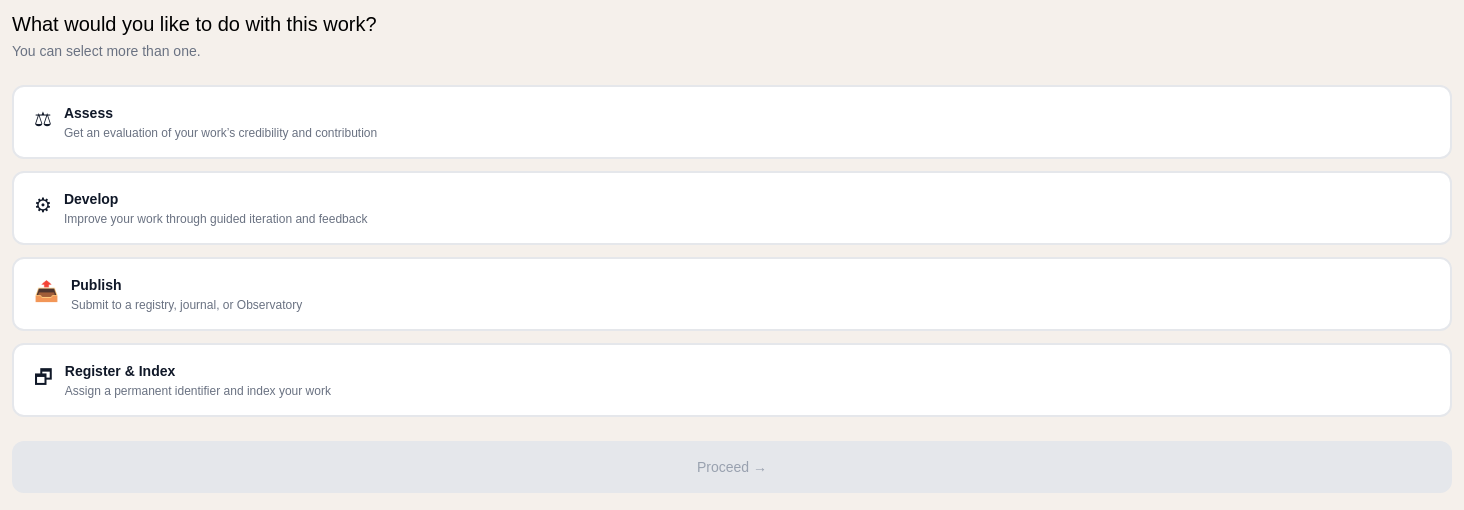
Test: IntentSelection › proceed becomes disabled again when all intents are deselected
Click the button with test id "intent-register" at (120, 371), box [12,343,1452,417]
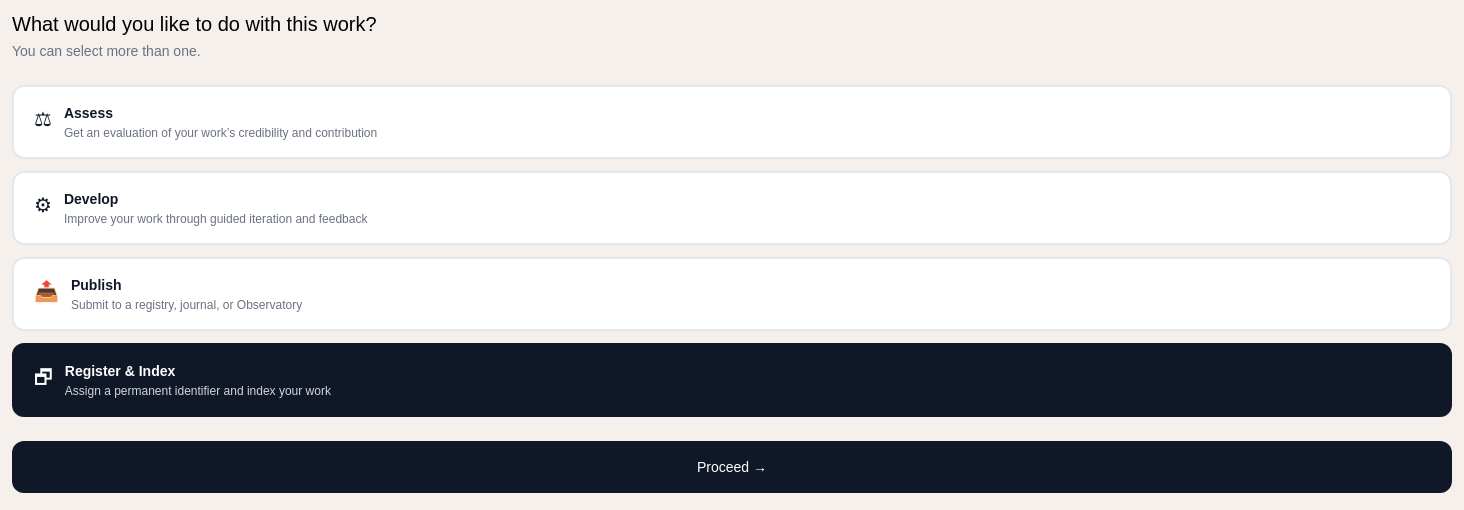
Now the button with test id "intent-proceed" is enabled, box [12,441,1452,493]
Click the button with test id "intent-register" at (120, 371), box [12,343,1452,417]
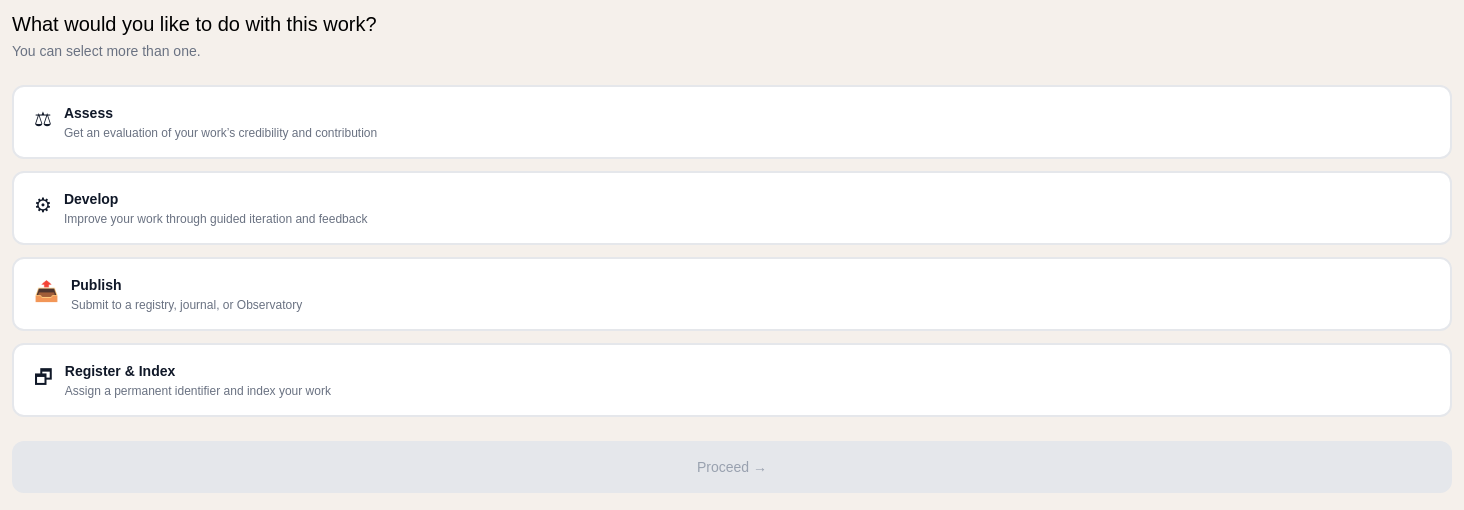
Now the button with test id "intent-proceed" is disabled, box [12,441,1452,493]
